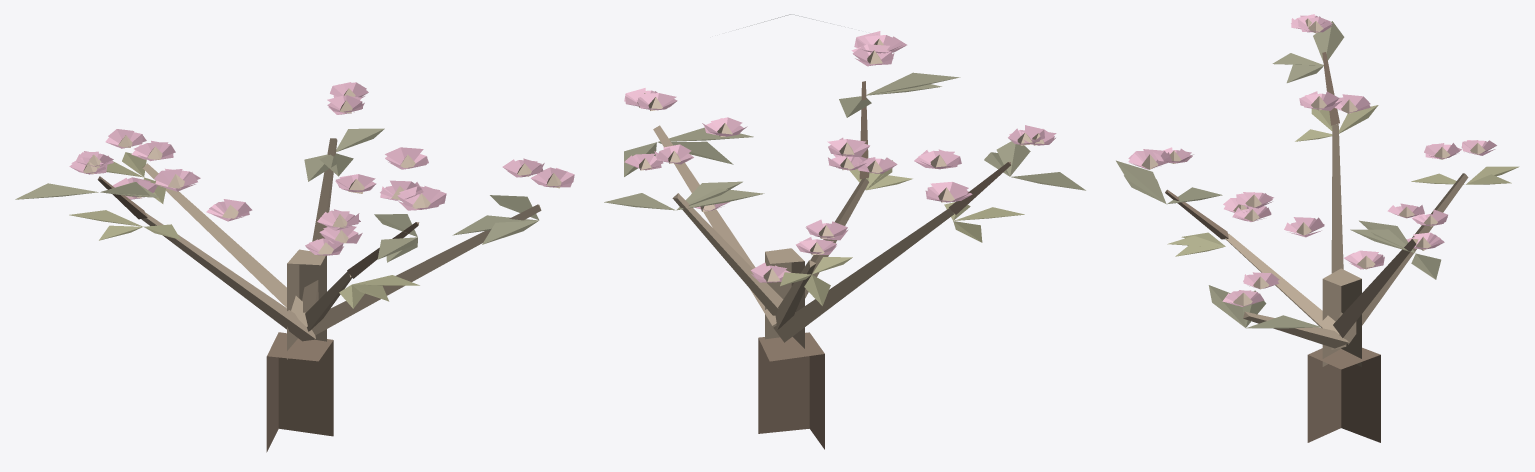
File: hua.mei@flowering__winter.glb
3 renders of one model, left to right at view 1: azimuth 30°, elevation 25°; view 2: azimuth 150°, elevation 25°; view 3: azimuth 270°, elevation 25°, orthographic. The views are drawn at different scales.
Visible parts, largest first — view 1: hua.mei@flowering__winter; view 2: hua.mei@flowering__winter; view 3: hua.mei@flowering__winter.
Boxes of the visible parts, <box> form: hua.mei@flowering__winter: <box>15,82,574,452</box>; hua.mei@flowering__winter: <box>604,14,1085,449</box>; hua.mei@flowering__winter: <box>1116,14,1519,442</box>.
Size of the model in its own units: 3.66 by 2.93 by 2.74.
